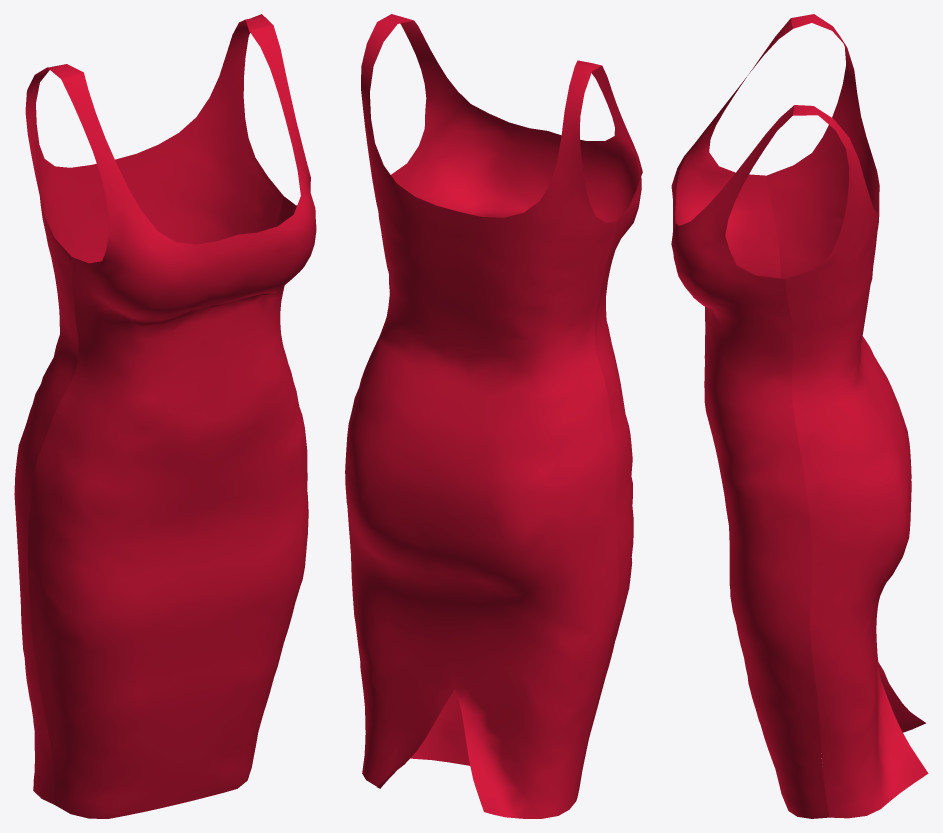
The model's file is small_redBodycon_noinside.obj.
3 renders of one model, left to right at view 1: azimuth 30°, elevation 25°; view 2: azimuth 150°, elevation 25°; view 3: azimuth 270°, elevation 25°, orthographic. The views are drawn at different scales.
Visible parts, largest first — view 1: small_redBodycon:polySurface1; view 2: small_redBodycon:polySurface1; view 3: small_redBodycon:polySurface1.
Part boxes in pixels (box(x1,y1,x2,y2)): small_redBodycon:polySurface1: box(14, 14, 316, 818); small_redBodycon:polySurface1: box(345, 14, 642, 818); small_redBodycon:polySurface1: box(671, 14, 928, 818).
Bounding box in the file's own units: 324 × 883 × 288.
Materials: 2 (2 with a texture image).
